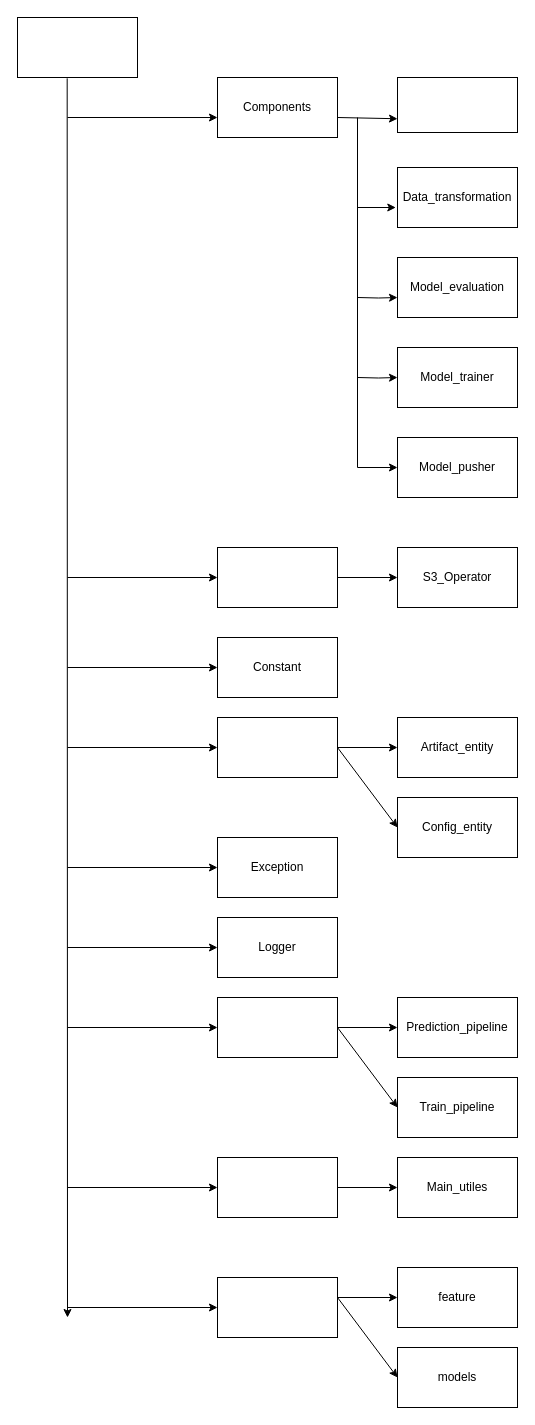
This 535x1425 diagram has some shape labels left out. The centre of each missing label's shape, as x and y in pixels:
Configuration: pixel 277 577
Data_ingestion: pixel 457 104
entity: pixel 277 747
ML: pixel 277 1307
Pipeline: pixel 277 1027
Ticket_allocator: pixel 77 47
Utils: pixel 277 1187
